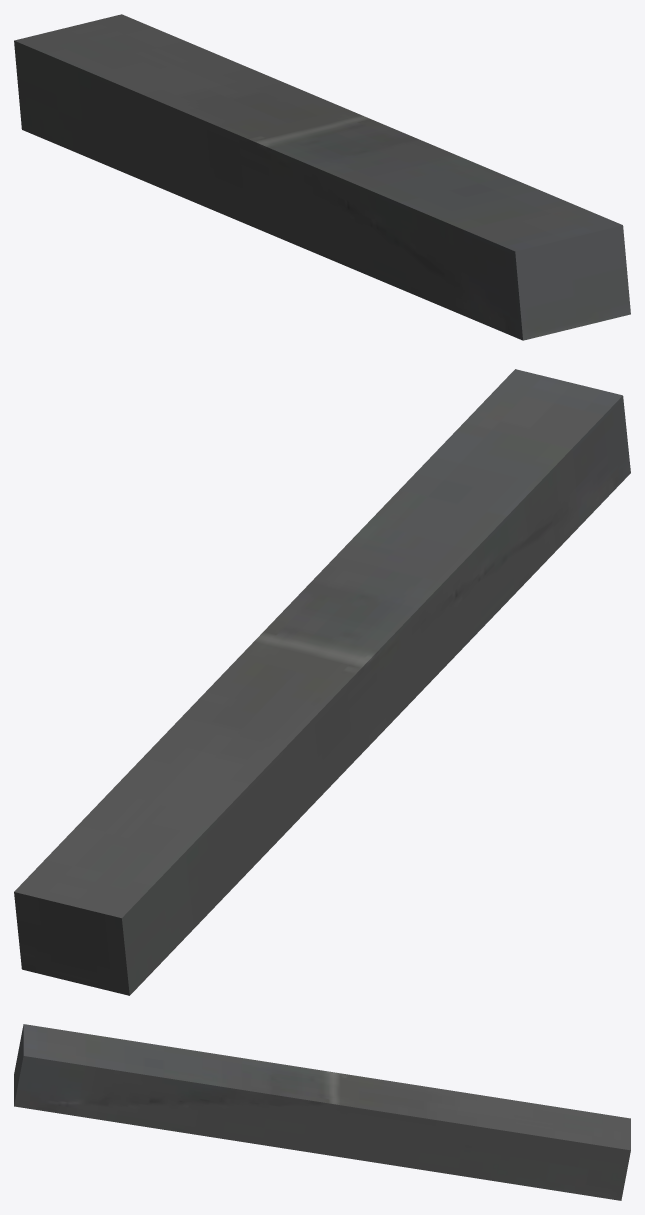
File: cabinet__monitor_left_bezel.glb
3 renders of one model, top to bottom at view 1: azimuth 30°, elevation 25°; view 2: azimuth 150°, elevation 25°; view 3: azimuth 270°, elevation 25°, orthographic. The views are drawn at different scales.
Parts seen in each view (by area): view 1: geometry_0; view 2: geometry_0; view 3: geometry_0.
Part boxes in pixels (bbox=[...]): geometry_0: bbox=[14, 14, 630, 340]; geometry_0: bbox=[14, 369, 630, 995]; geometry_0: bbox=[14, 1024, 630, 1200].
Bounding box in the file's own units: 0.06 × 0.1273 × 0.4905.
1 material, 1 textured.
